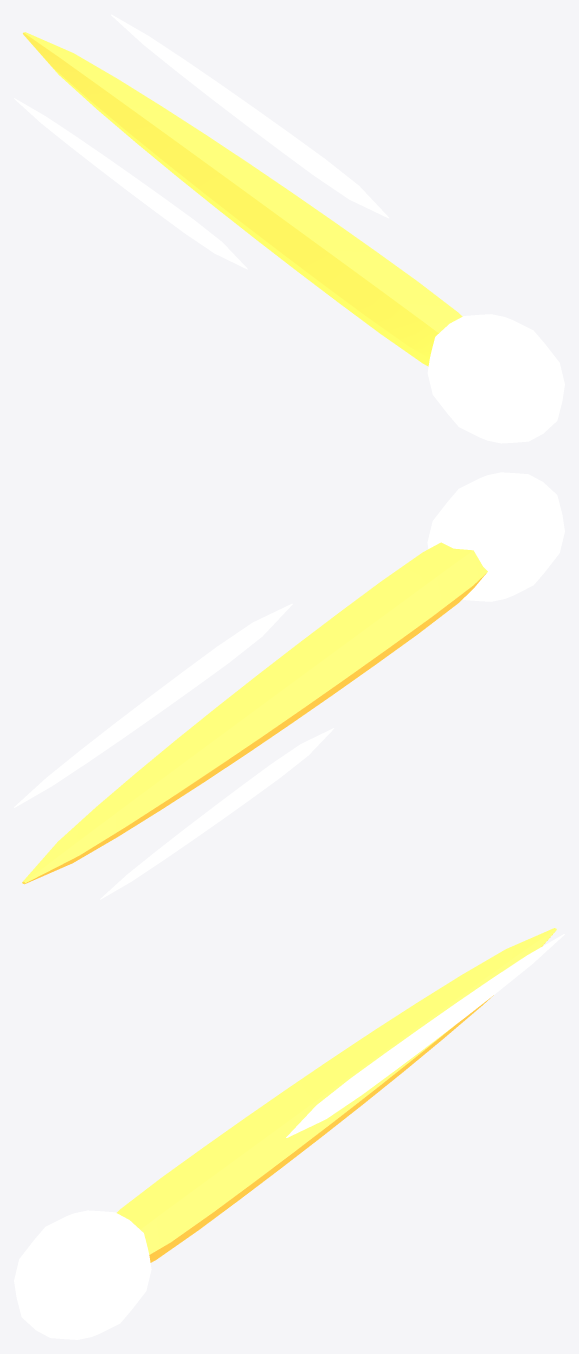
The model's file is vfx-mesh-library-tracer-streak-3e6acadc__21870.glb.
3 views of the same model, one above another, from view 1: azimuth 30°, elevation 25°; view 2: azimuth 150°, elevation 25°; view 3: azimuth 330°, elevation 25° (orthographic).
Visible parts, largest first — view 1: tracer-streak; view 2: tracer-streak; view 3: tracer-streak.
Boxes of the visible parts, bbox=[...] form: tracer-streak: bbox=[14, 14, 564, 443]; tracer-streak: bbox=[14, 472, 564, 899]; tracer-streak: bbox=[14, 928, 564, 1339].
Size of the model in its own units: 0.116 by 0.11 by 0.9325.
